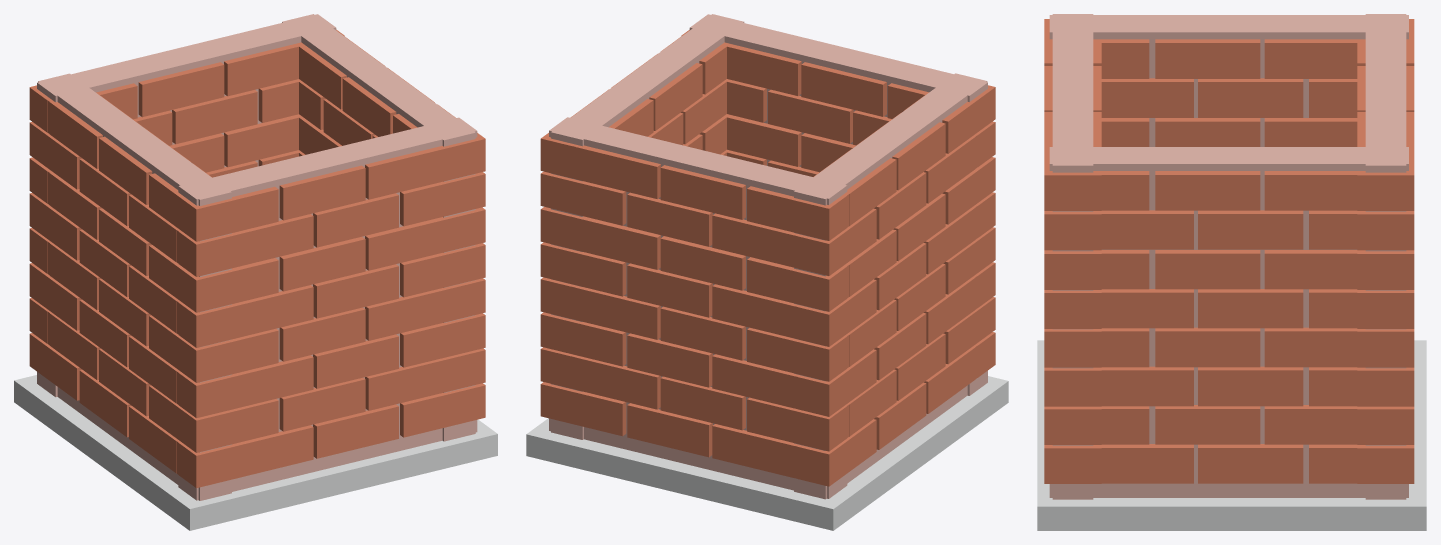
3 views of the same model, side by side, from view 1: azimuth 30°, elevation 25°; view 2: azimuth 150°, elevation 25°; view 3: azimuth 270°, elevation 25° (orthographic). The views are drawn at different scales.
Visible parts, largest first — view 1: tek_duvar26; view 2: tek_duvar26; view 3: tek_duvar26.
Boxes of the visible parts, x1=… form: tek_duvar26: x1=14, y1=14, x2=497, y2=530; tek_duvar26: x1=526, y1=14, x2=1008, y2=530; tek_duvar26: x1=1037, y1=14, x2=1426, y2=530.
Bounding box in the file's own units: 1703 × 1706 × 1683.
